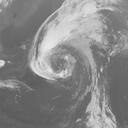cyclone: (28, 25, 87, 80)
